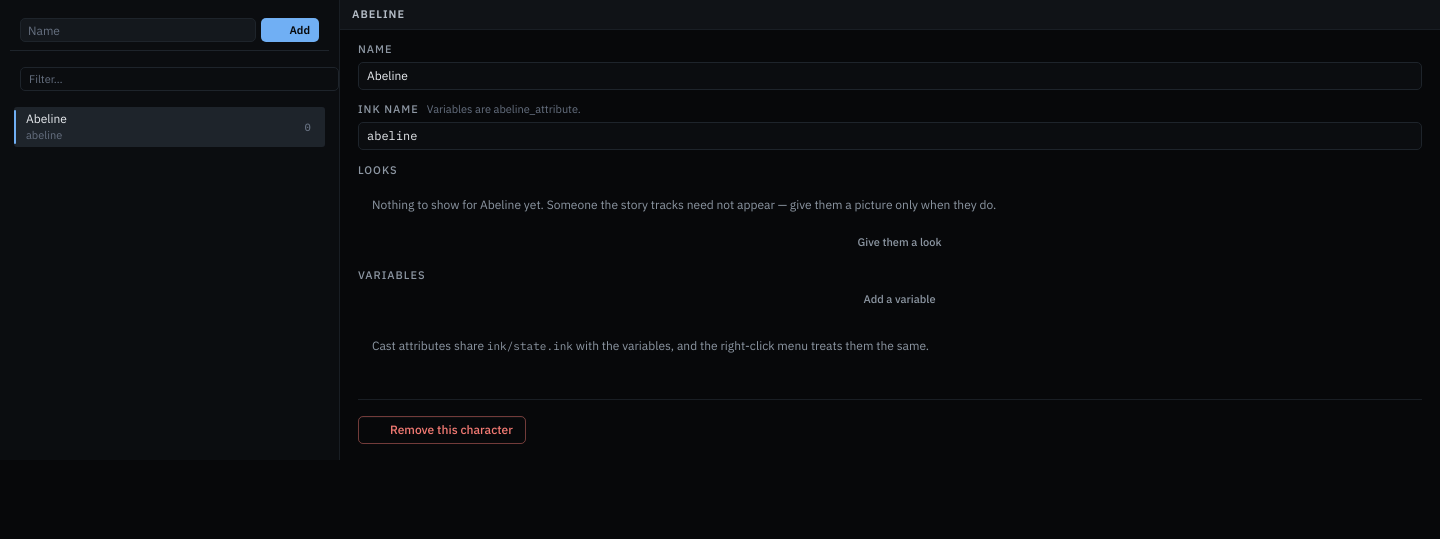
Test: CastPanel › names each field on screen, not only to a screen reader
The image size is (1440, 539).
Click the button "Add a variable" at (890, 300), box [358,288,1422,312]
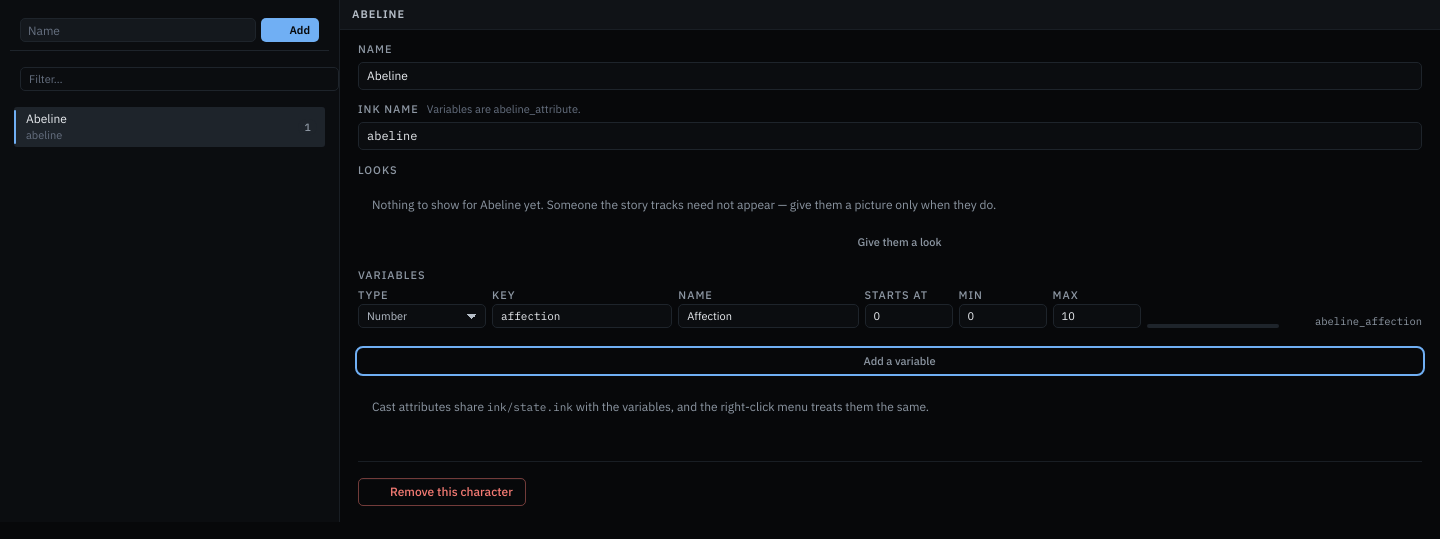
Expected: the text "Type" is shown, [358,288,389,302]
Expected: the text "Key" is shown, [492,288,515,302]
Expected: the text "Name" next to "Starts at" is shown, [678,288,713,302]
Select "Word" in the dropdown named "Type of Affection" at (422, 316), box [358,304,486,328]
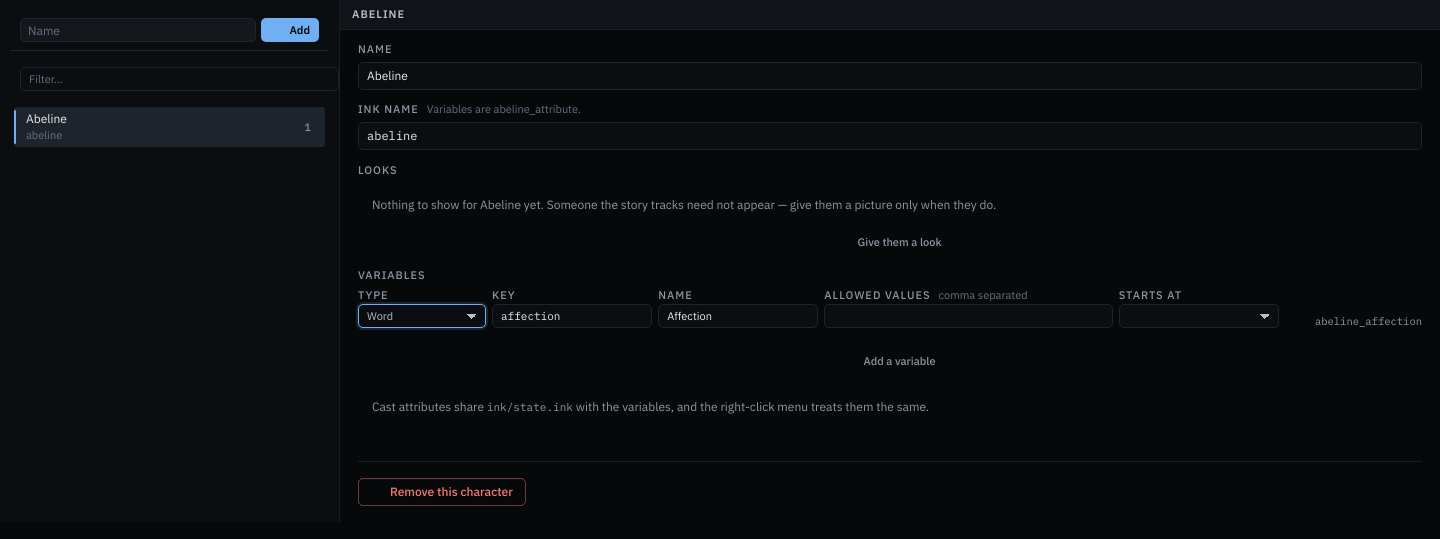
Expected: the text "Allowed values" is shown, [824,288,930,302]
Expected: the text "Min" is gone
